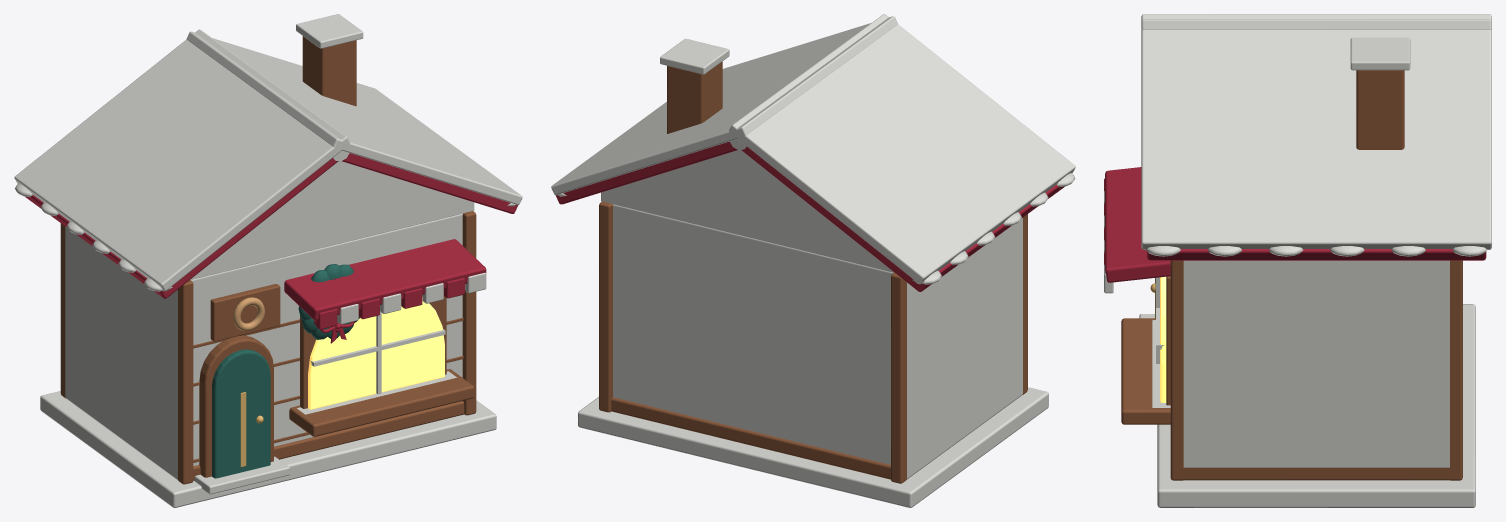
The model's file is christmas-storybook-patisserie-1e42d54d__18692.glb.
3 renders of one model, left to right at view 1: azimuth 30°, elevation 25°; view 2: azimuth 150°, elevation 25°; view 3: azimuth 270°, elevation 25°, orthographic. The views are drawn at different scales.
Visible parts, largest first — view 1: cream, oak, berry, light, pine, biscuit, brass; view 2: cream, oak, berry; view 3: cream, oak, berry, light.
Boxes of the visible parts, box(x1,y1,x2,y2) form: cream: box(14, 14, 522, 507); oak: box(60, 36, 476, 484); berry: box(25, 153, 518, 343); light: box(308, 297, 444, 409); pine: box(212, 264, 359, 478); biscuit: box(233, 297, 264, 330); brass: box(240, 392, 263, 467); cream: box(551, 14, 1075, 507); oak: box(599, 61, 1027, 483); berry: box(555, 141, 1064, 291); cream: box(1104, 14, 1491, 507); oak: box(1121, 70, 1462, 480); berry: box(1104, 167, 1486, 282); light: box(1160, 276, 1166, 402).
Bounding box in the file's own units: 3.69 × 3.32 × 2.8.
